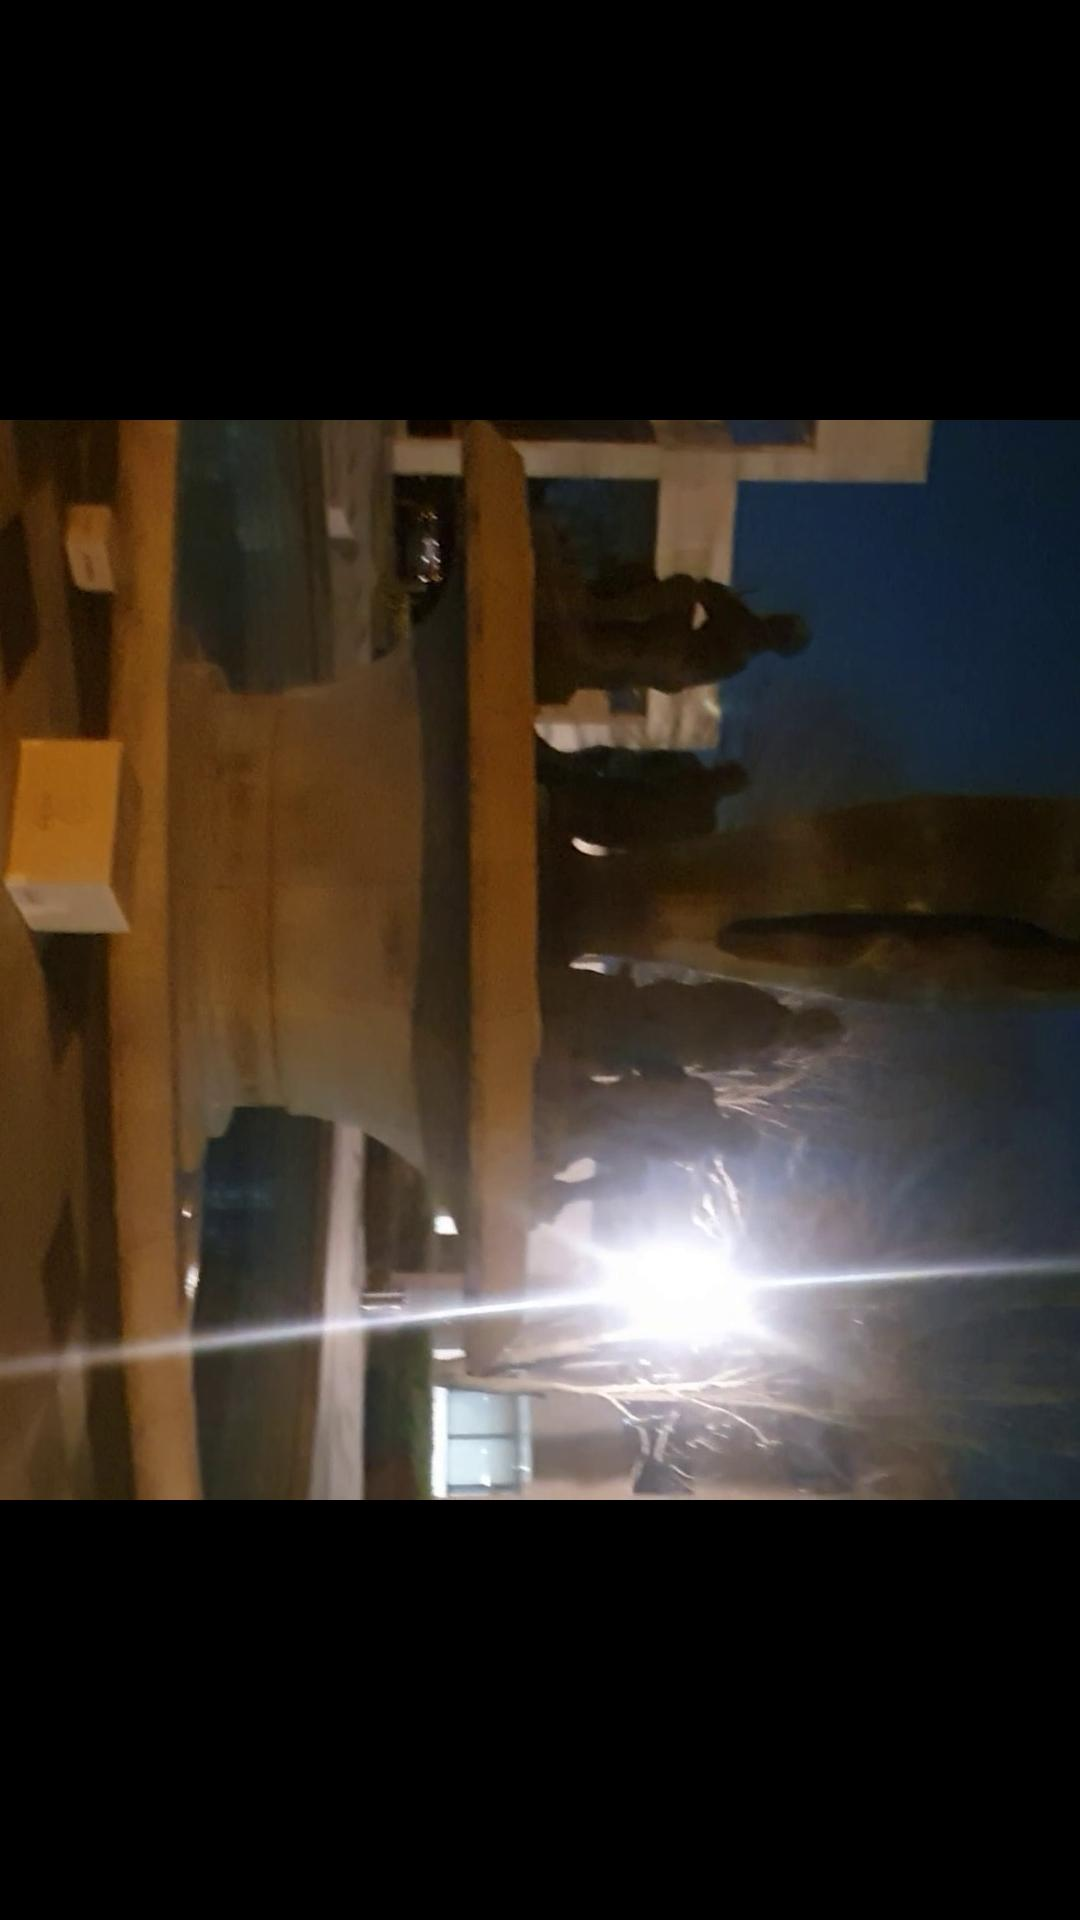Box: (0, 733, 156, 942), (61, 493, 137, 600)
